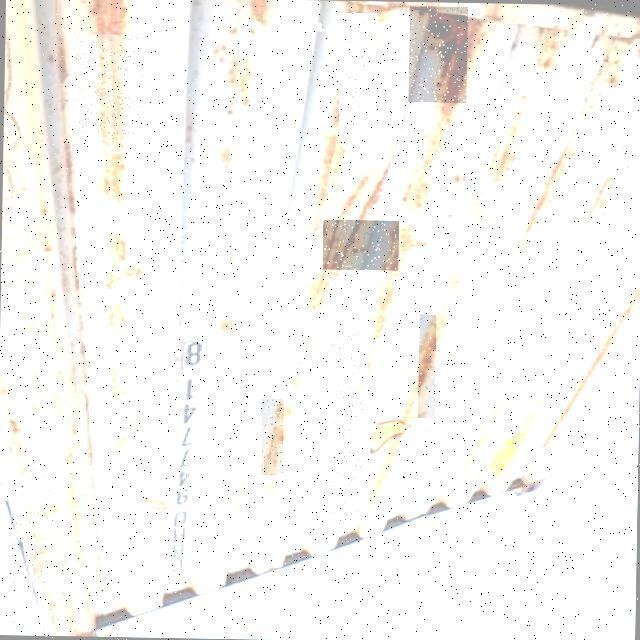rust: (8, 462, 84, 625), (312, 311, 370, 522), (75, 35, 144, 155), (409, 7, 469, 104), (340, 13, 379, 136), (323, 220, 400, 271), (418, 315, 437, 419), (262, 399, 285, 476)
